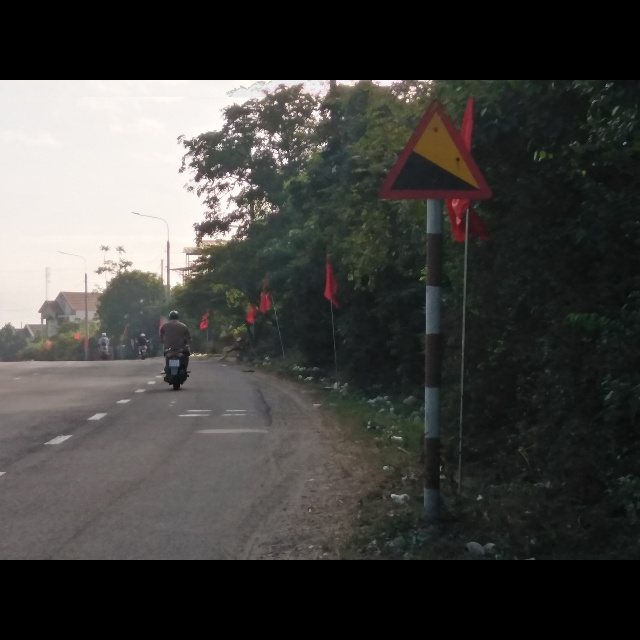Dốc lên nguy hiểm: (376, 98, 494, 201)
